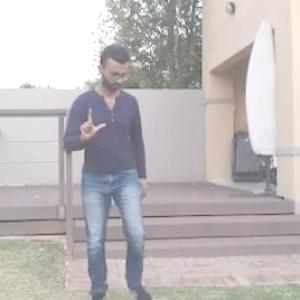land_hand: (75, 103, 107, 147)
